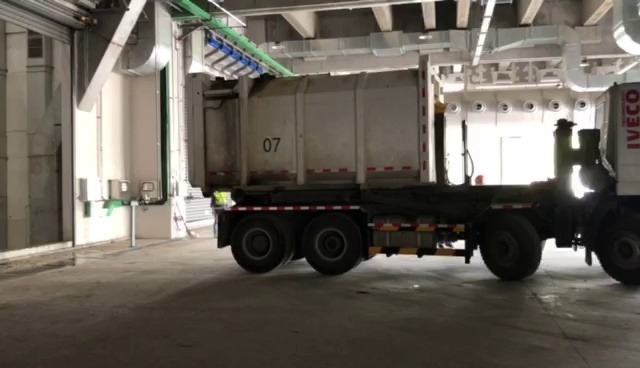truck: (177, 50, 640, 290)
